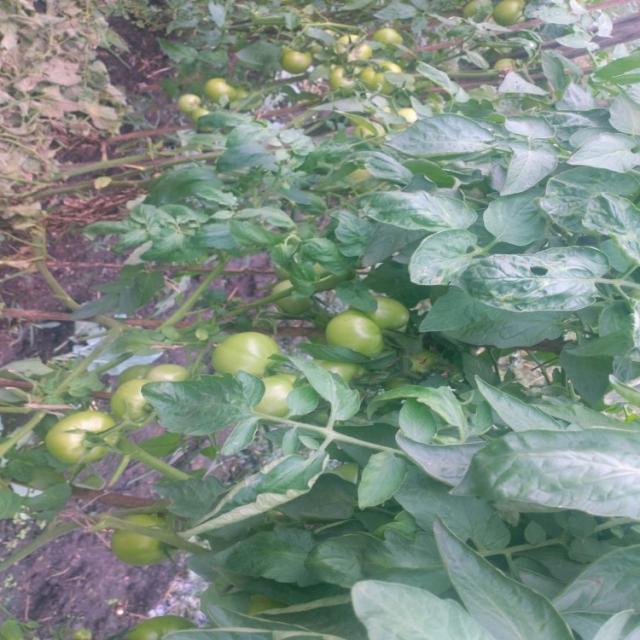tomato: (47, 398, 139, 472), (201, 325, 292, 380), (109, 372, 175, 428), (110, 515, 169, 573), (359, 285, 418, 340), (313, 314, 382, 359), (250, 377, 309, 413), (341, 24, 374, 76), (283, 41, 320, 78), (359, 55, 396, 91), (488, 1, 535, 23), (201, 77, 242, 102), (335, 65, 362, 98)
